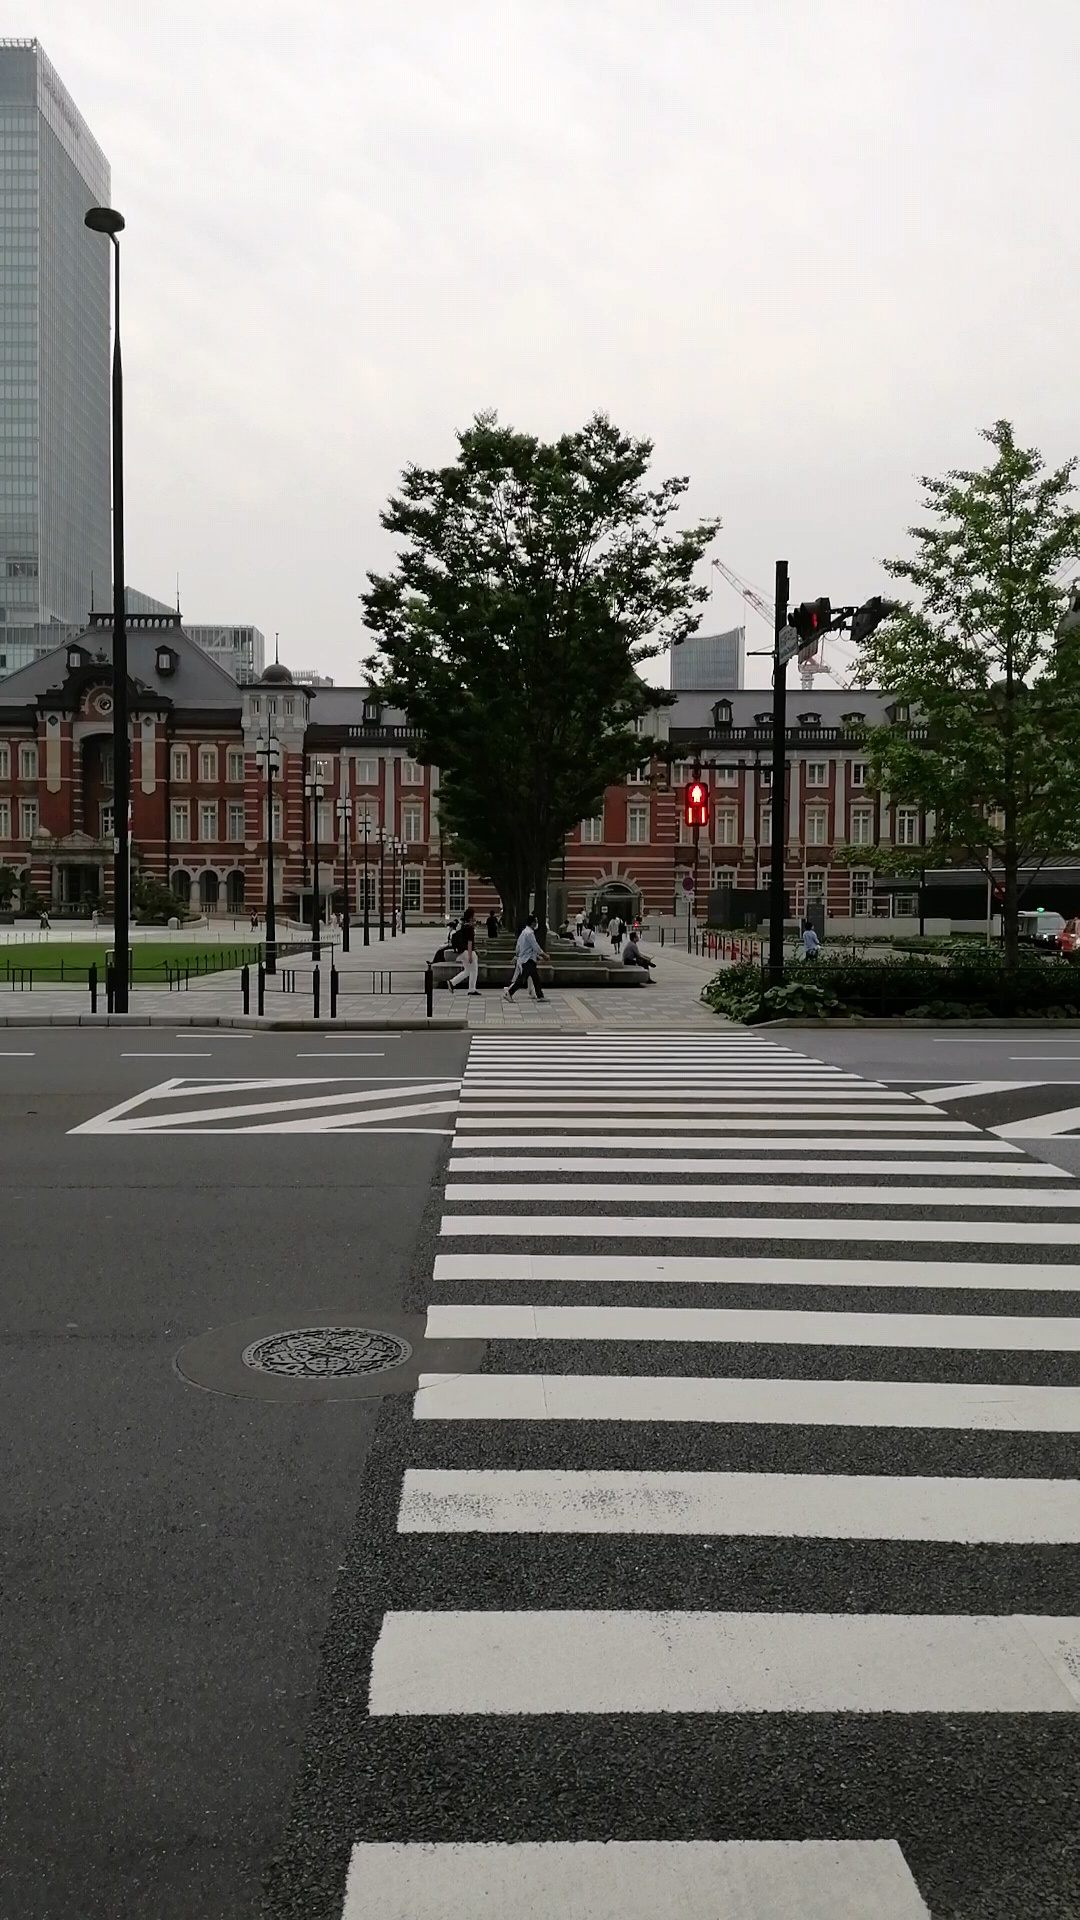red: (682, 781, 709, 827)
